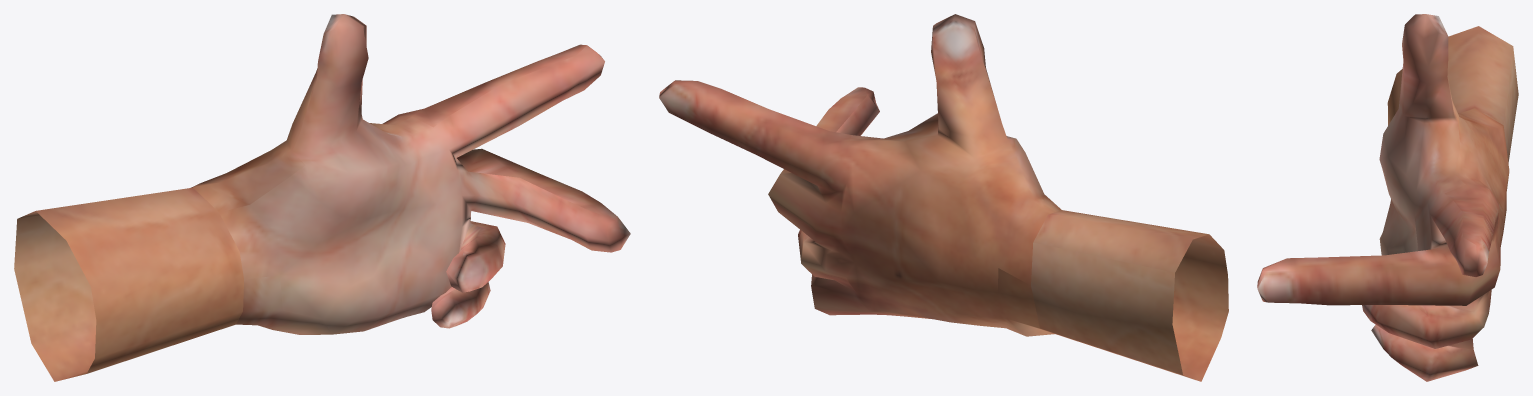
File: wrist (1).fbx
3 views of the same model, side by side, from view 1: azimuth 30°, elevation 25°; view 2: azimuth 150°, elevation 25°; view 3: azimuth 270°, elevation 25° (orthographic). The views are drawn at different scales.
Visible parts, largest first — view 1: wrist; view 2: wrist; view 3: wrist.
Part boxes in pixels (box(x1,y1,x2,y2)): wrist: box(14, 14, 630, 381); wrist: box(659, 14, 1228, 381); wrist: box(1257, 14, 1518, 381).
Size of the model in its own units: 84.7 by 47.3 by 36.61.
Materials: 1 (1 with a texture image).
